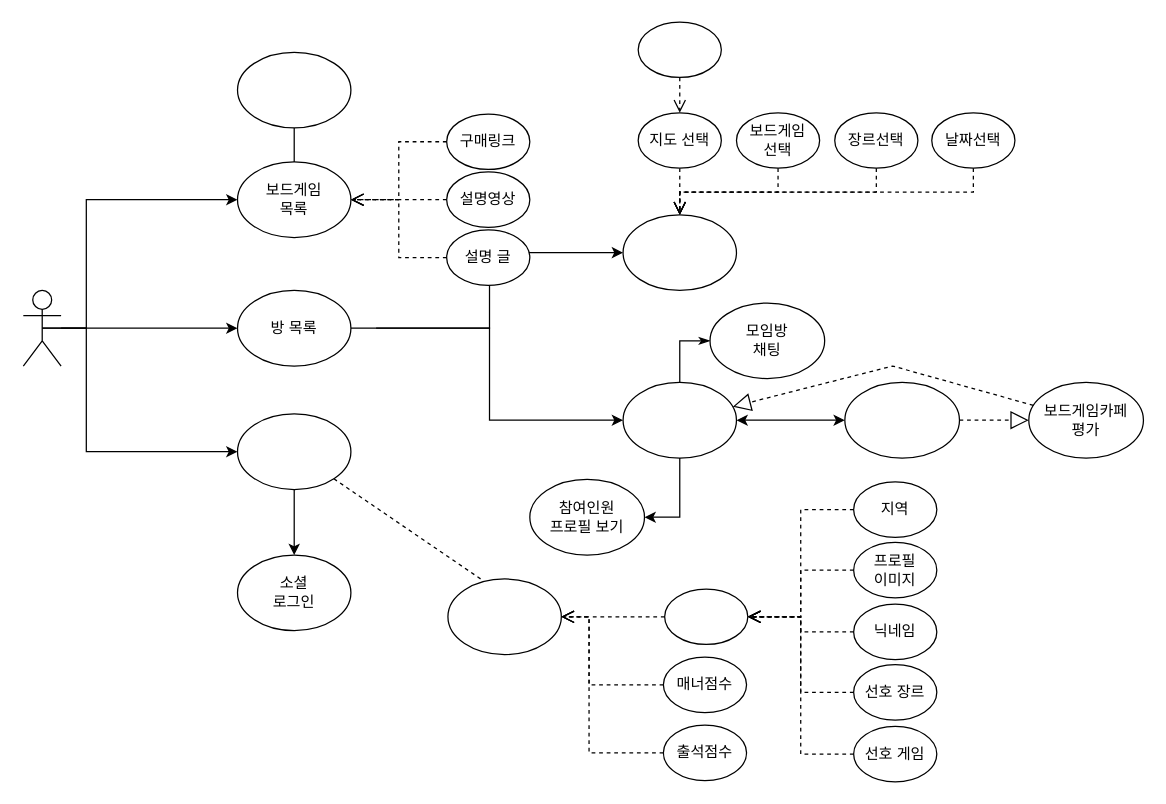
Image size: 1166x804. Some labels were removed from this diagram. The centre of each missing label's shape, as x and y in pixels:
"개인정보 변경" goes at point 705,616.
"로그인" goes at point 293,451.
"마이페이지" goes at point 504,616.
"모임방" goes at point 679,419.
"모임원 평가" goes at point 901,419.
"방 만들기" goes at point 679,252.
"보드게임 검색" goes at point 293,89.
"보드게임 카페 검색" goes at point 679,49.
"사용자" goes at point 41,327.
